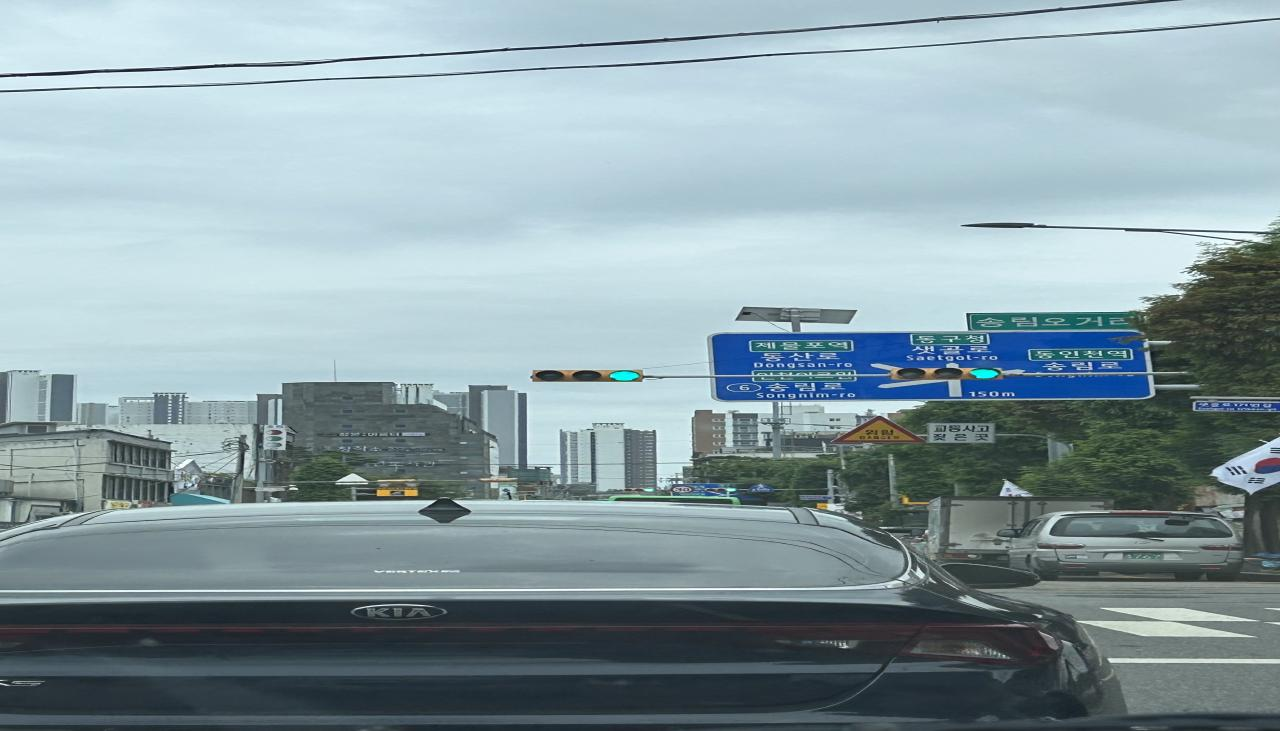Green Light: (604, 370, 644, 382), (966, 367, 1002, 380)
